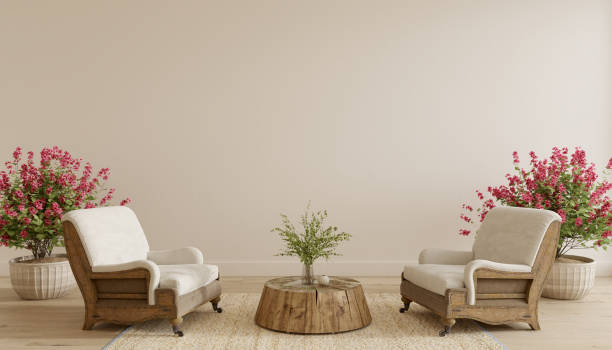chair: (60, 204, 225, 339), (398, 203, 564, 337)
flower vase: (505, 142, 612, 299), (0, 142, 96, 300), (266, 195, 351, 287)
table: (253, 273, 371, 337)
